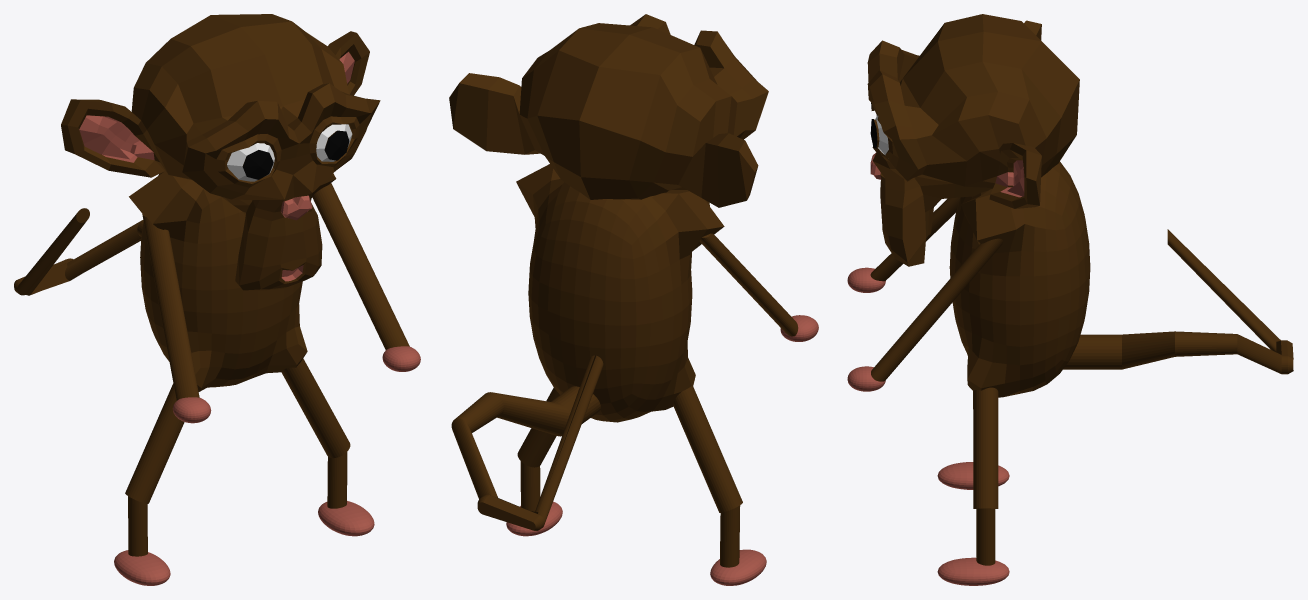
File: monkey.fbx
The picture shows the model from 3 angles, left to right: view 1: azimuth 30°, elevation 25°; view 2: azimuth 150°, elevation 25°; view 3: azimuth 270°, elevation 25°; orthographic projection. The views are drawn at different scales.
Parts seen in each view (by area): view 1: Suzanne, Cube, Cylinder.001, Cylinder, Cylinder.002, Cylinder.003, Cylinder.004, Cube.002, Cube.001, Cube.004, Cube.003; view 2: Suzanne, Cube, Cylinder.004, Cylinder.002, Cylinder.001, Cylinder.003, Cube.002, Cube.001, Cube.004; view 3: Suzanne, Cube, Cylinder.004, Cylinder.003, Cylinder, Cube.001, Cylinder.001, Cube.002, Cube.004, Cube.003.
Boxes of the visible parts, x1=… form: Suzanne: x1=61, y1=14, x2=380, y2=290; Cube: x1=129, y1=171, x2=336, y2=391; Cylinder.001: x1=142, y1=212, x2=199, y2=400; Cylinder: x1=312, y1=183, x2=409, y2=349; Cylinder.002: x1=125, y1=383, x2=184, y2=556; Cylinder.003: x1=281, y1=358, x2=350, y2=508; Cylinder.004: x1=14, y1=208, x2=143, y2=295; Cube.002: x1=114, y1=550, x2=170, y2=585; Cube.001: x1=318, y1=501, x2=374, y2=536; Cube.004: x1=172, y1=397, x2=211, y2=423; Cube.003: x1=382, y1=346, x2=420, y2=371; Suzanne: x1=449, y1=14, x2=768, y2=207; Cube: x1=516, y1=164, x2=724, y2=422; Cylinder.004: x1=451, y1=355, x2=603, y2=530; Cylinder.002: x1=673, y1=386, x2=742, y2=567; Cylinder.001: x1=699, y1=233, x2=798, y2=336; Cylinder.003: x1=517, y1=387, x2=559, y2=511; Cube.002: x1=710, y1=549, x2=766, y2=585; Cube.001: x1=506, y1=501, x2=562, y2=536; Cube.004: x1=780, y1=315, x2=818, y2=341; Suzanne: x1=867, y1=14, x2=1079, y2=266; Cube: x1=949, y1=161, x2=1090, y2=397; Cylinder.004: x1=1063, y1=229, x2=1293, y2=374; Cylinder.003: x1=973, y1=387, x2=998, y2=565; Cylinder: x1=871, y1=238, x2=1003, y2=381; Cube.001: x1=937, y1=557, x2=1009, y2=585; Cylinder.001: x1=870, y1=197, x2=960, y2=281; Cube.002: x1=937, y1=462, x2=1009, y2=489; Cube.004: x1=847, y1=267, x2=885, y2=292; Cube.003: x1=847, y1=366, x2=885, y2=391.
Bounding box in the file's own units: 273 × 446 × 358.
